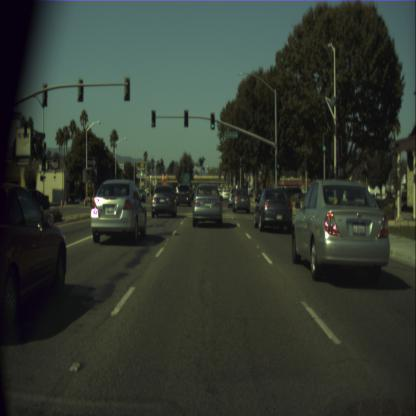Green: (322, 134, 326, 152), (152, 110, 156, 127), (276, 154, 280, 171), (211, 113, 214, 128)
off: (184, 108, 188, 127)
